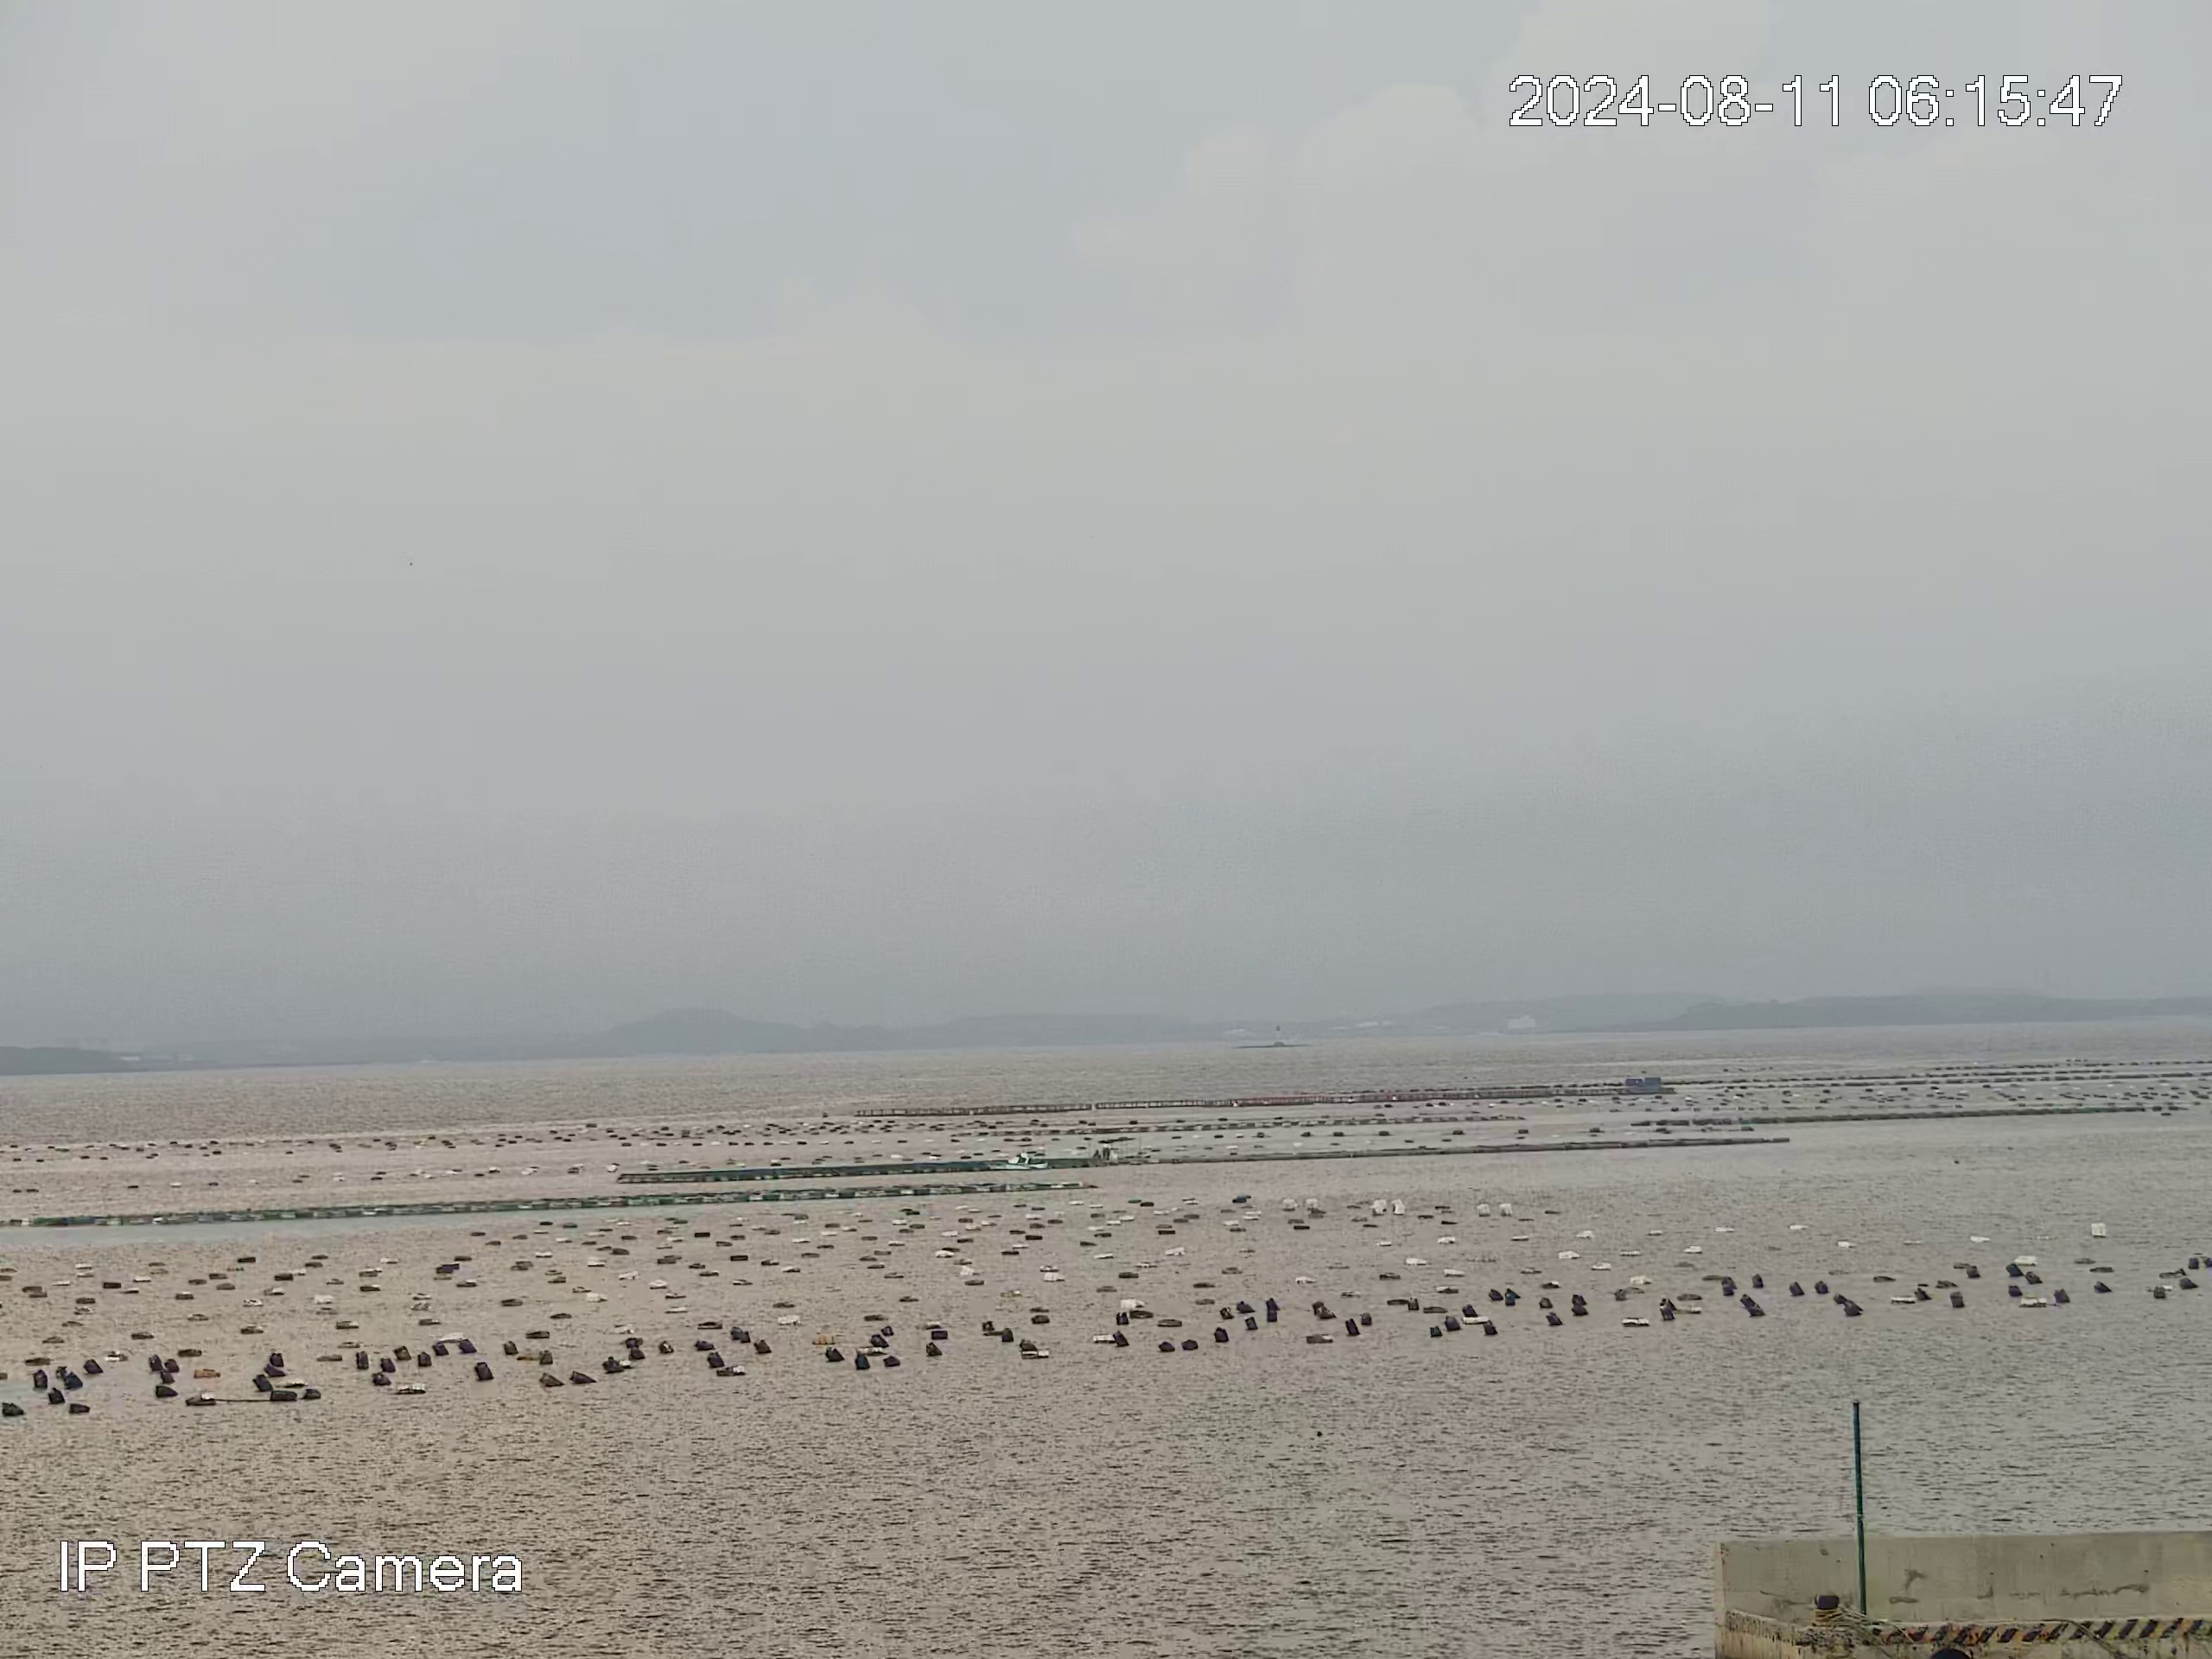boat: (984, 1150, 1050, 1172)
